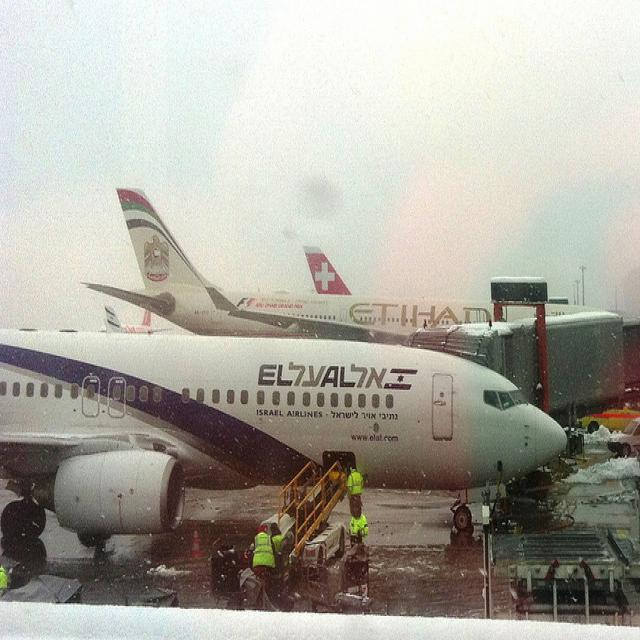Vehicle: (606, 417, 639, 458), (607, 416, 640, 456)
